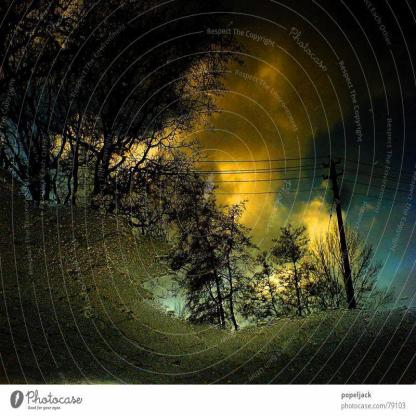other: (208, 148, 365, 271)
